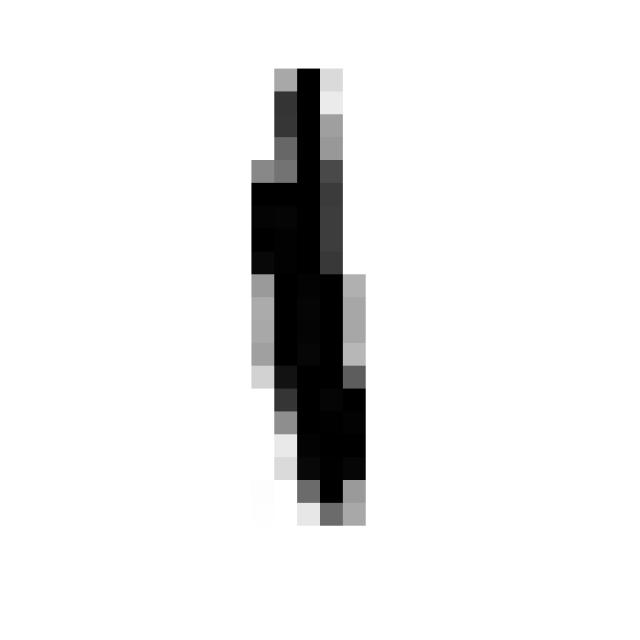1 -one-: (226, 46, 386, 542)
